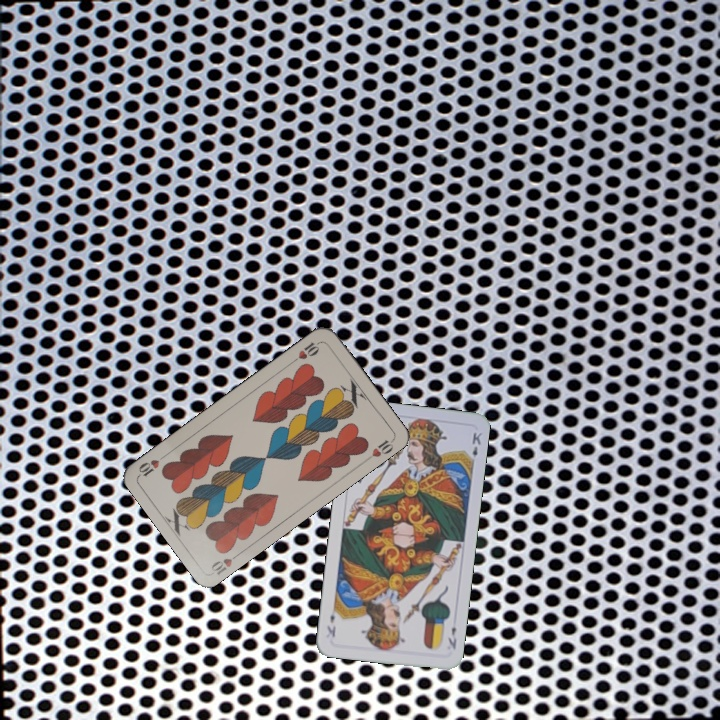EK: (444, 622, 459, 652)
H10: (207, 548, 244, 578), (288, 338, 323, 366)
